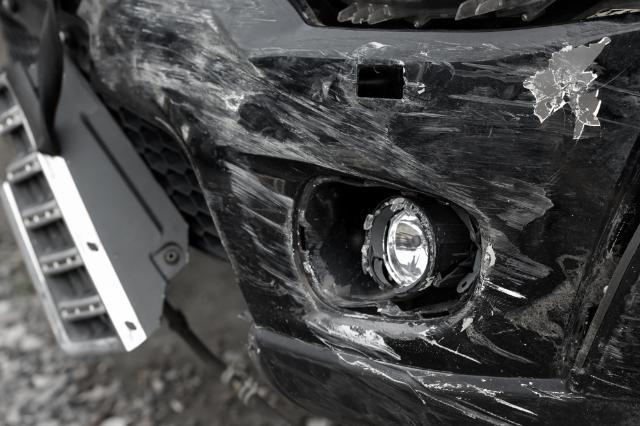scratch: (79, 0, 610, 370), (310, 354, 584, 426), (594, 271, 640, 398)
